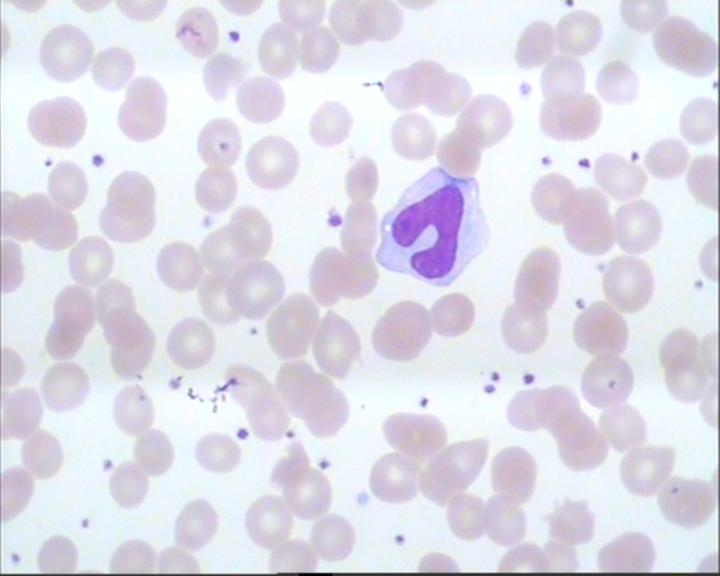mono: (368, 165, 494, 288)
